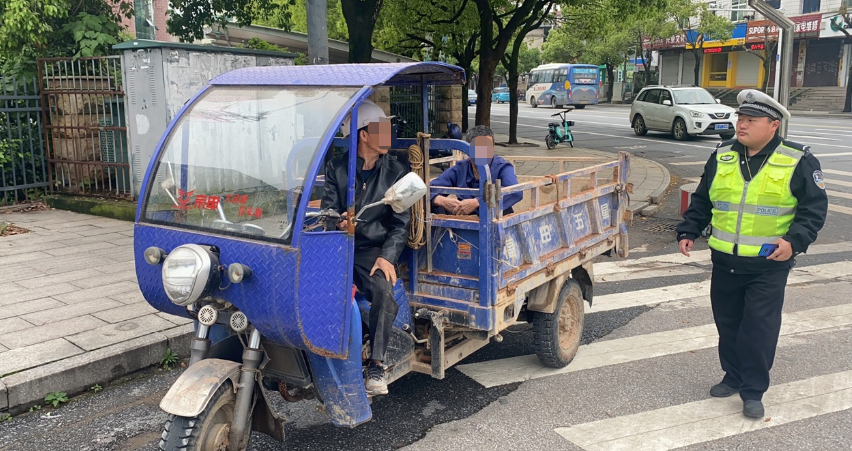driver: (304, 94, 422, 403)
overloading: (130, 64, 645, 451)
passenger: (427, 118, 529, 239)
